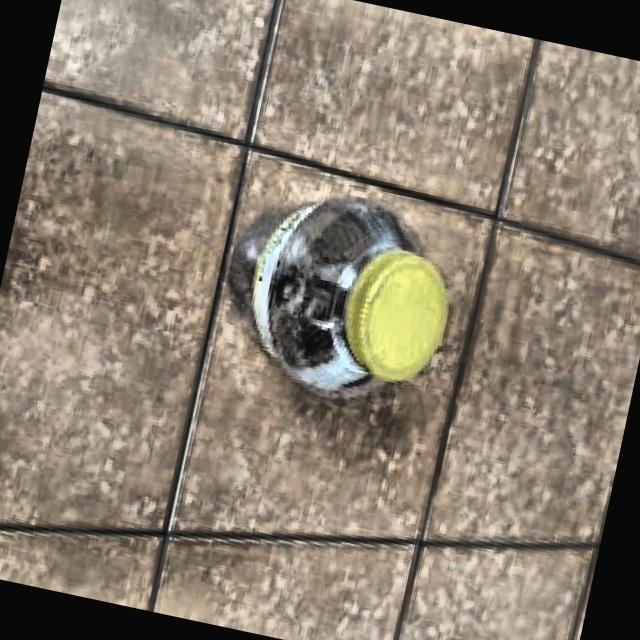plastic bottle: (228, 199, 447, 392)
